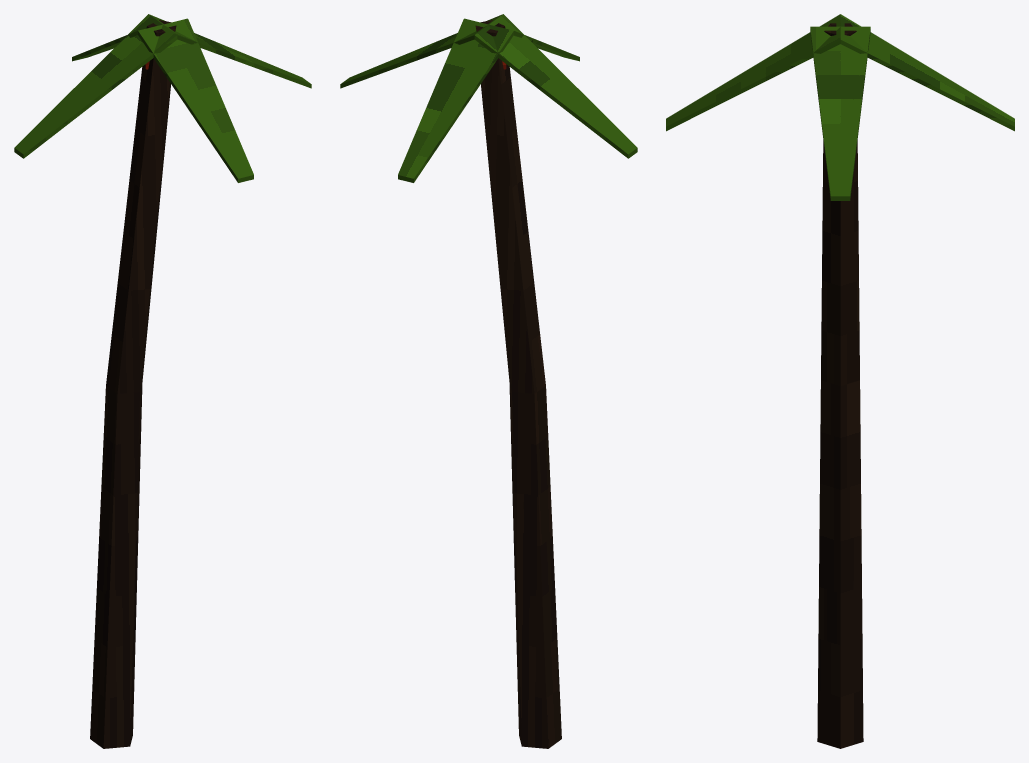
File: palmera.glb
The picture shows the model from 3 angles, left to right: view 1: azimuth 30°, elevation 25°; view 2: azimuth 150°, elevation 25°; view 3: azimuth 270°, elevation 25°; orthographic projection. The views are drawn at different scales.
Visible parts, largest first — view 1: tronco, hojas; view 2: tronco, hojas; view 3: tronco, hojas.
Boxes of the visible parts, x1=… form: tronco: x1=90, y1=20, x2=176, y2=748; hojas: x1=14, y1=14, x2=311, y2=182; tronco: x1=475, y1=20, x2=561, y2=748; hojas: x1=340, y1=14, x2=637, y2=182; tronco: x1=817, y1=23, x2=863, y2=748; hojas: x1=666, y1=14, x2=1014, y2=200.
Bounding box in the file's own units: 3 × 7 × 3.
1 material, 1 textured.
